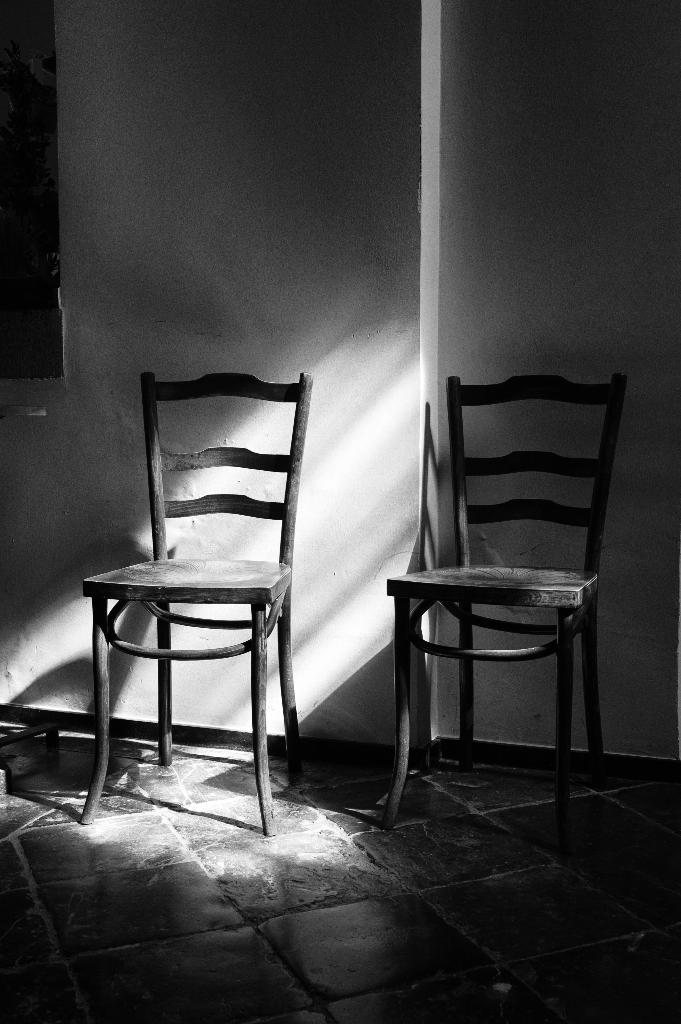Chair: (382, 376, 634, 844), (81, 371, 319, 841)
